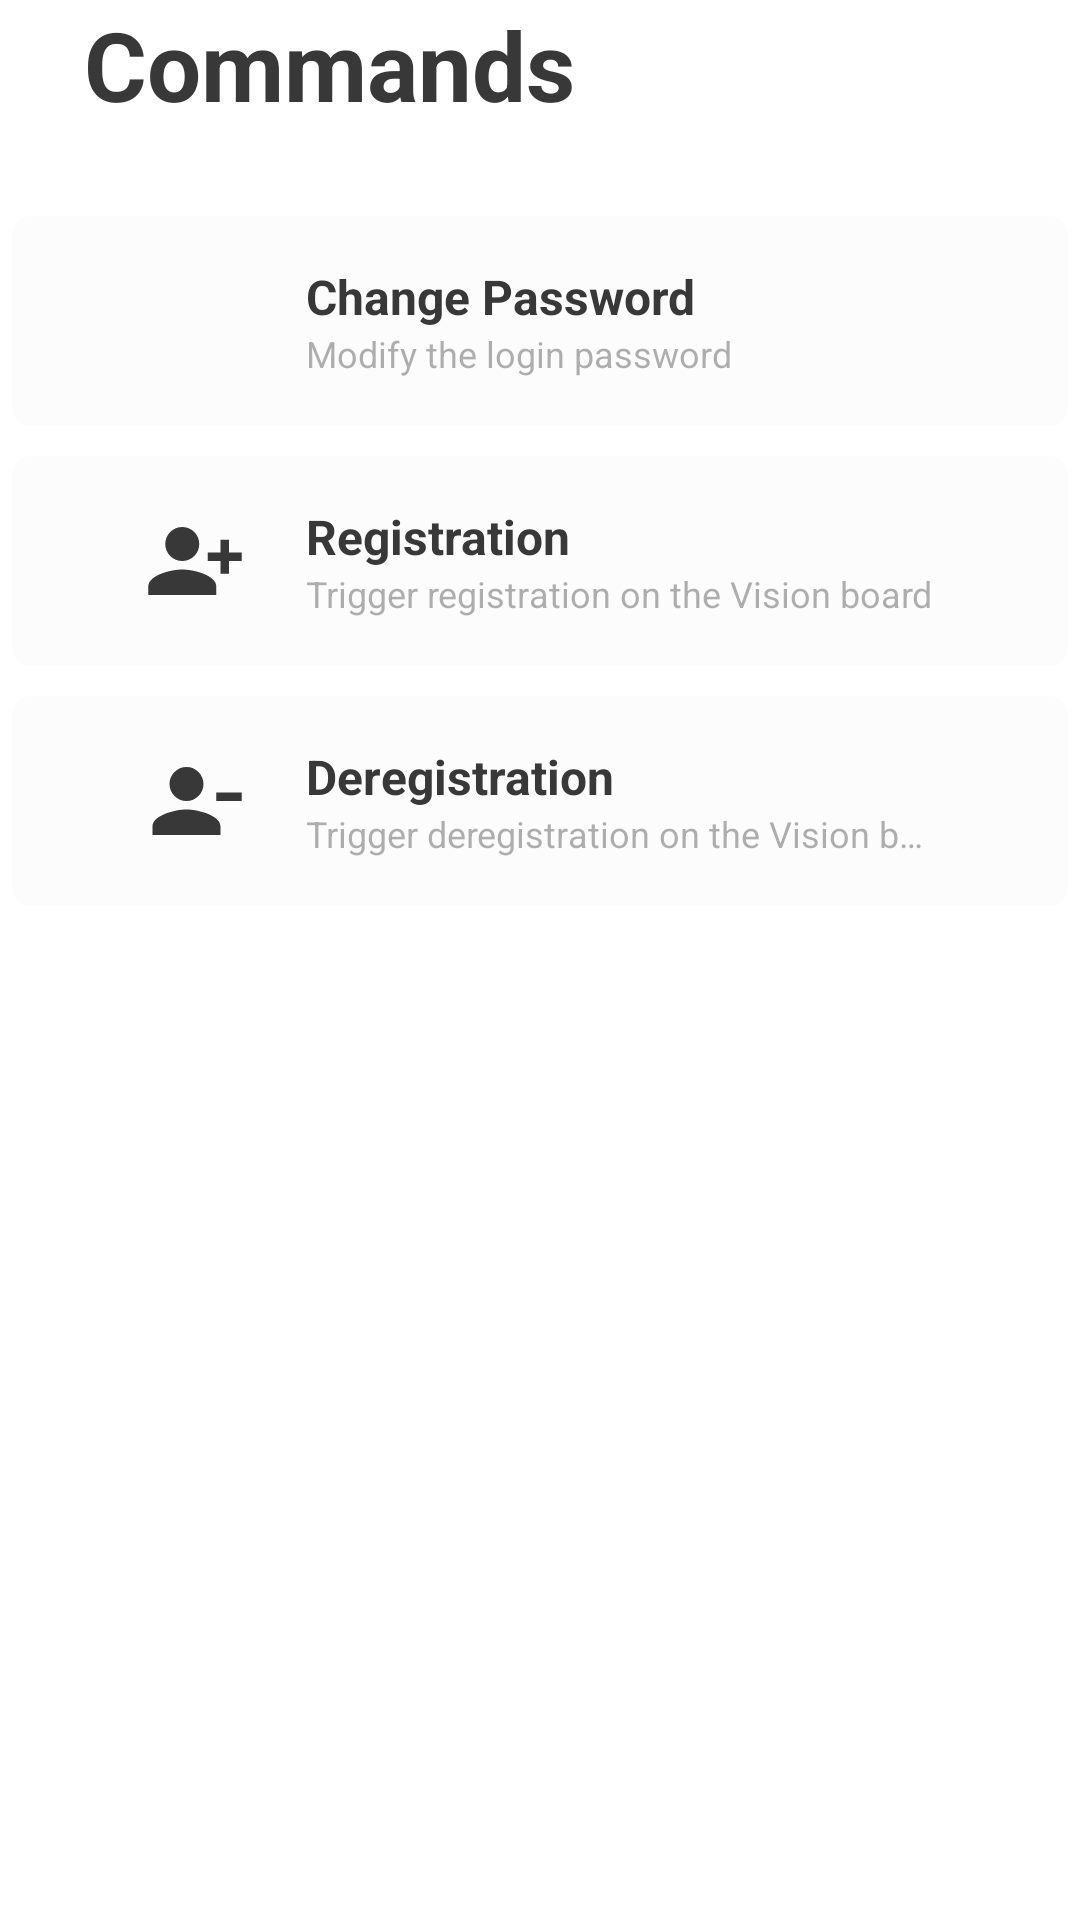

Icons on this 1080x1920 Android screen, each with its box as box(x1, y1, x2, y2):
person add: box(148, 527, 242, 595)
person remove: box(152, 767, 242, 835)
